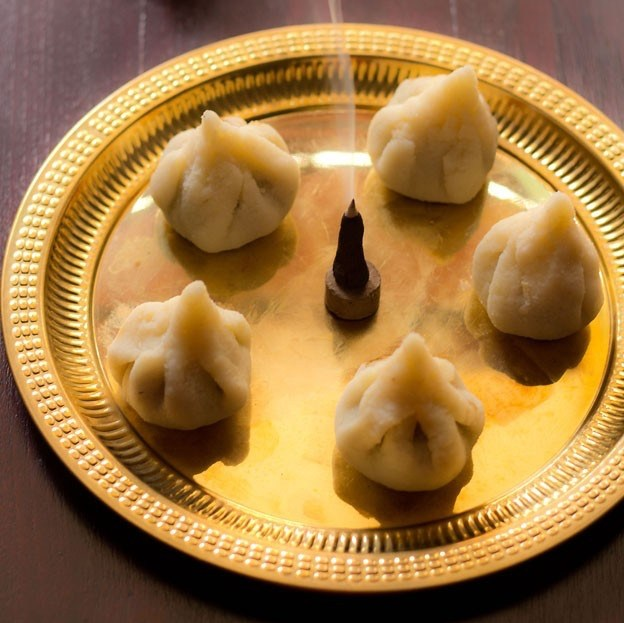modak: (324, 334, 504, 490), (109, 280, 273, 434), (146, 108, 309, 252), (369, 71, 502, 230), (488, 202, 605, 339)
